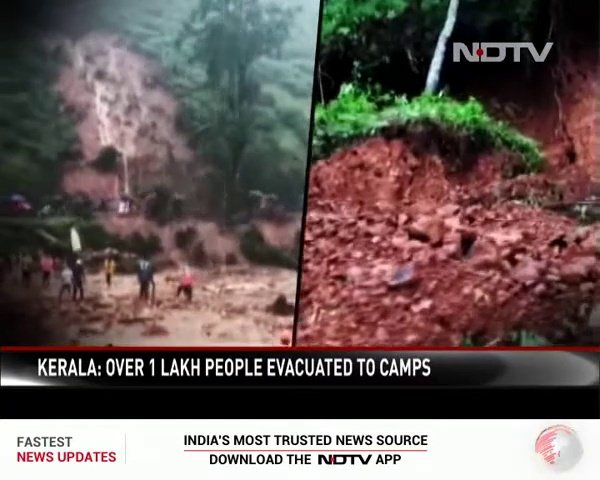person: (135, 253, 155, 298), (71, 262, 88, 297), (40, 251, 55, 289), (59, 264, 72, 305), (19, 253, 31, 285), (102, 252, 113, 286)
